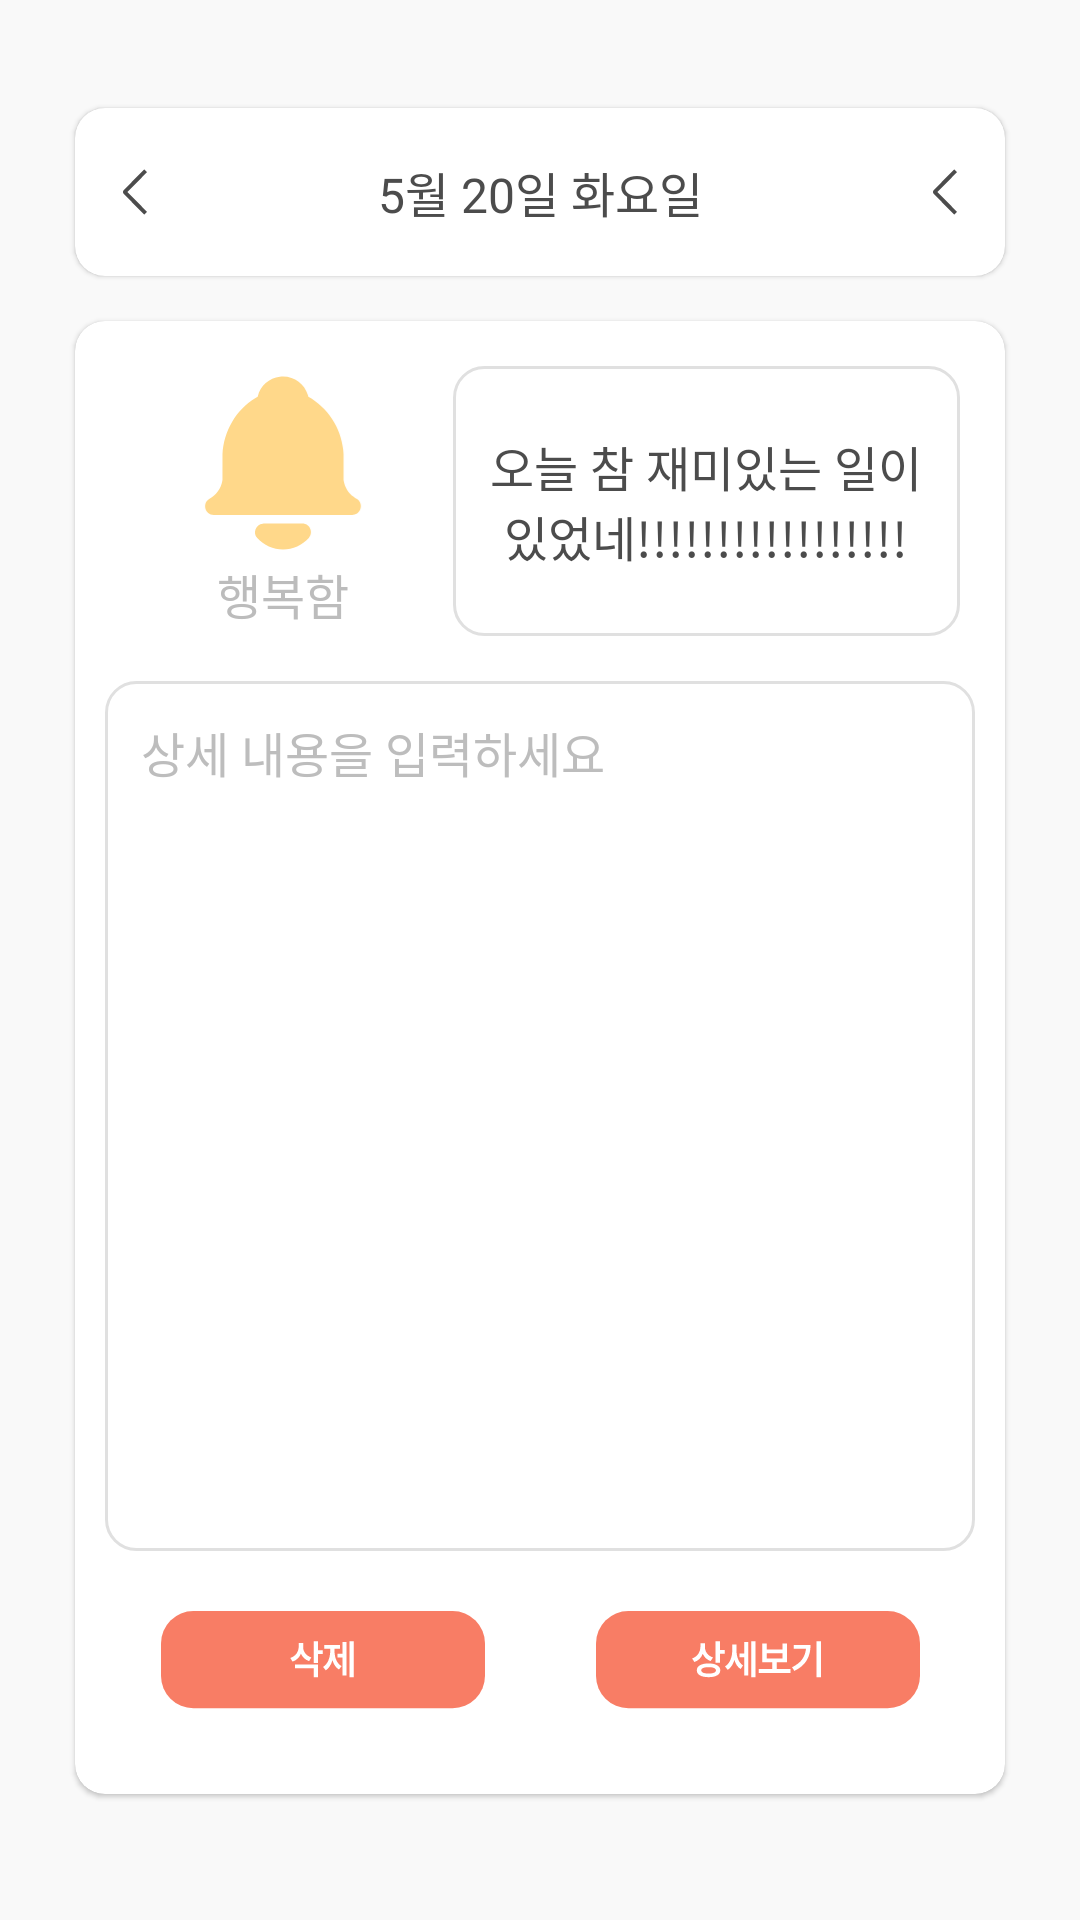

Icons on this 1080 x 1920 Android screen, each with its box as (x1, y1, x2, y2):
arrow back: (123, 169, 147, 215), (933, 169, 957, 215)
bell: (205, 376, 361, 550)
